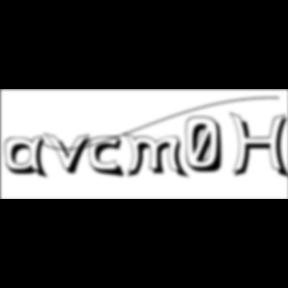0: (186, 115, 230, 174)
a: (5, 135, 53, 182)
c: (89, 136, 129, 180)
m: (124, 132, 192, 181)
v: (44, 131, 98, 177)
